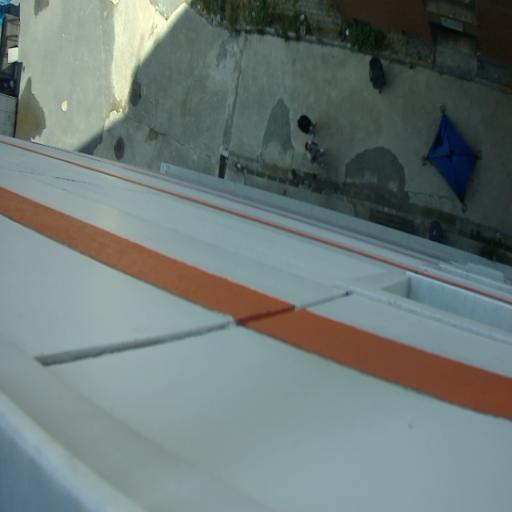tent: (418, 98, 486, 209)
